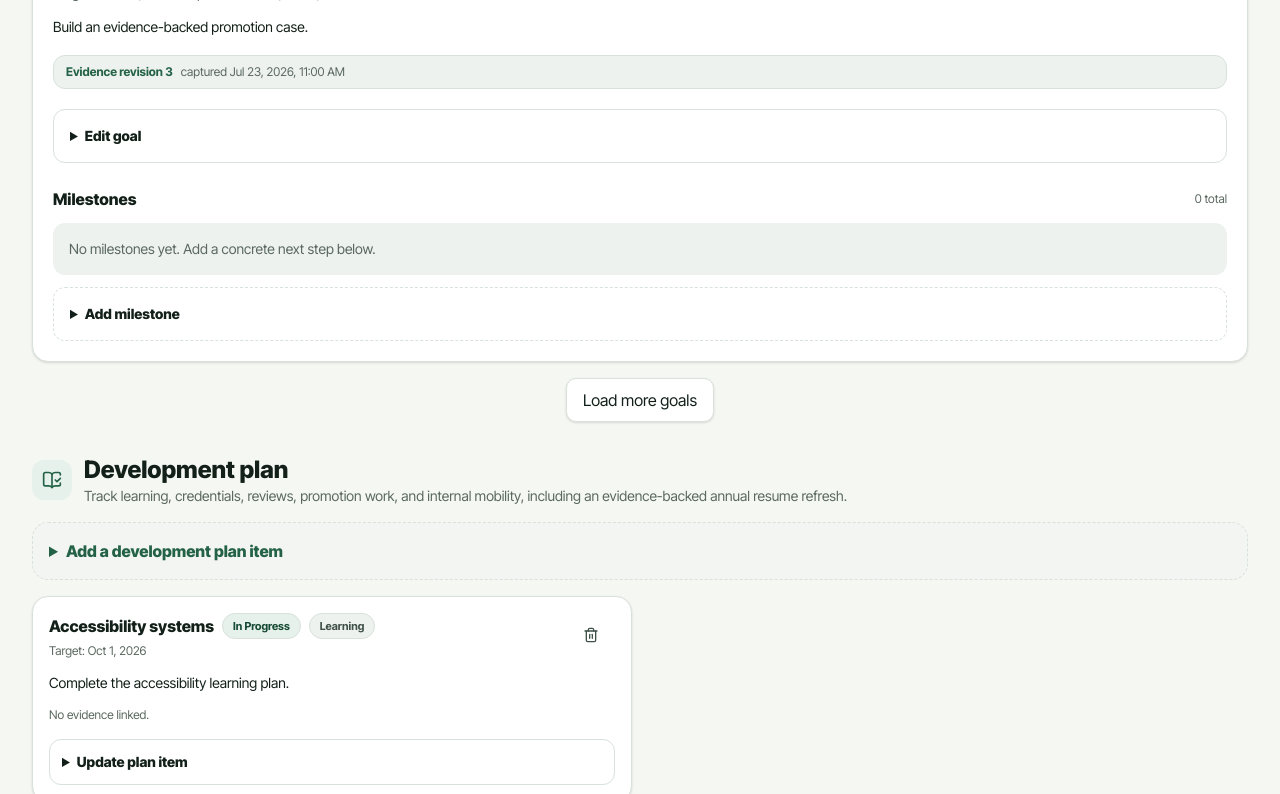
it: Career Growth view › continues a paginated collection without duplicating the initial page
(page scrolled)
Click the button "Load more goals".
click(640, 400)  # box [566,378,714,422]
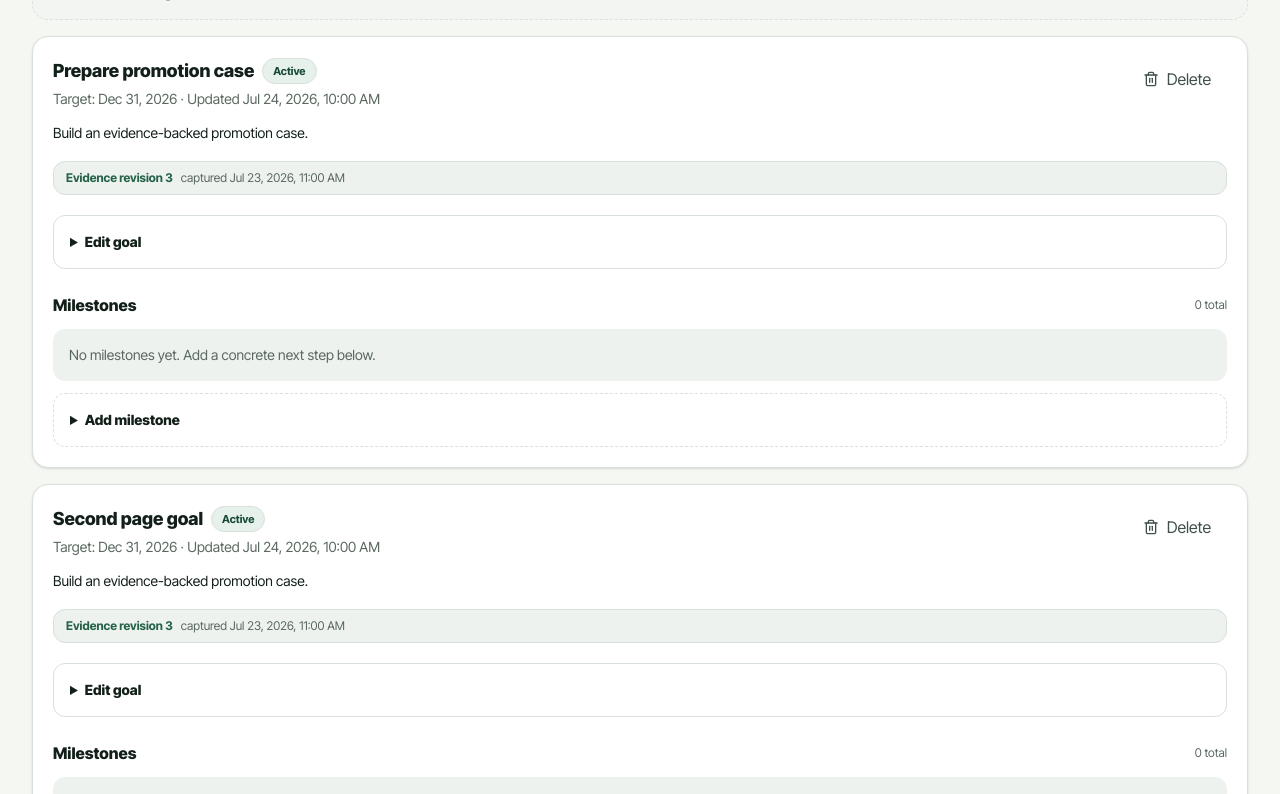
Expected: the heading "Second page goal" is shown, [53,504,203,532]
Expected: the number of headings "Prepare promotion case" is 1, [53,56,254,84]
